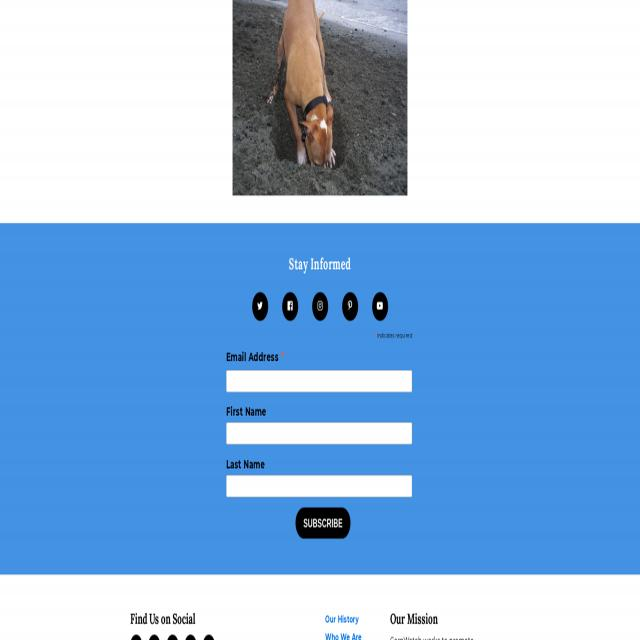button: (232, 0, 407, 195), (296, 507, 350, 539), (252, 292, 268, 321), (282, 292, 298, 321), (312, 292, 328, 321), (342, 292, 358, 321), (372, 292, 388, 321)
field: (226, 422, 412, 445), (226, 370, 412, 392), (226, 475, 412, 497)
